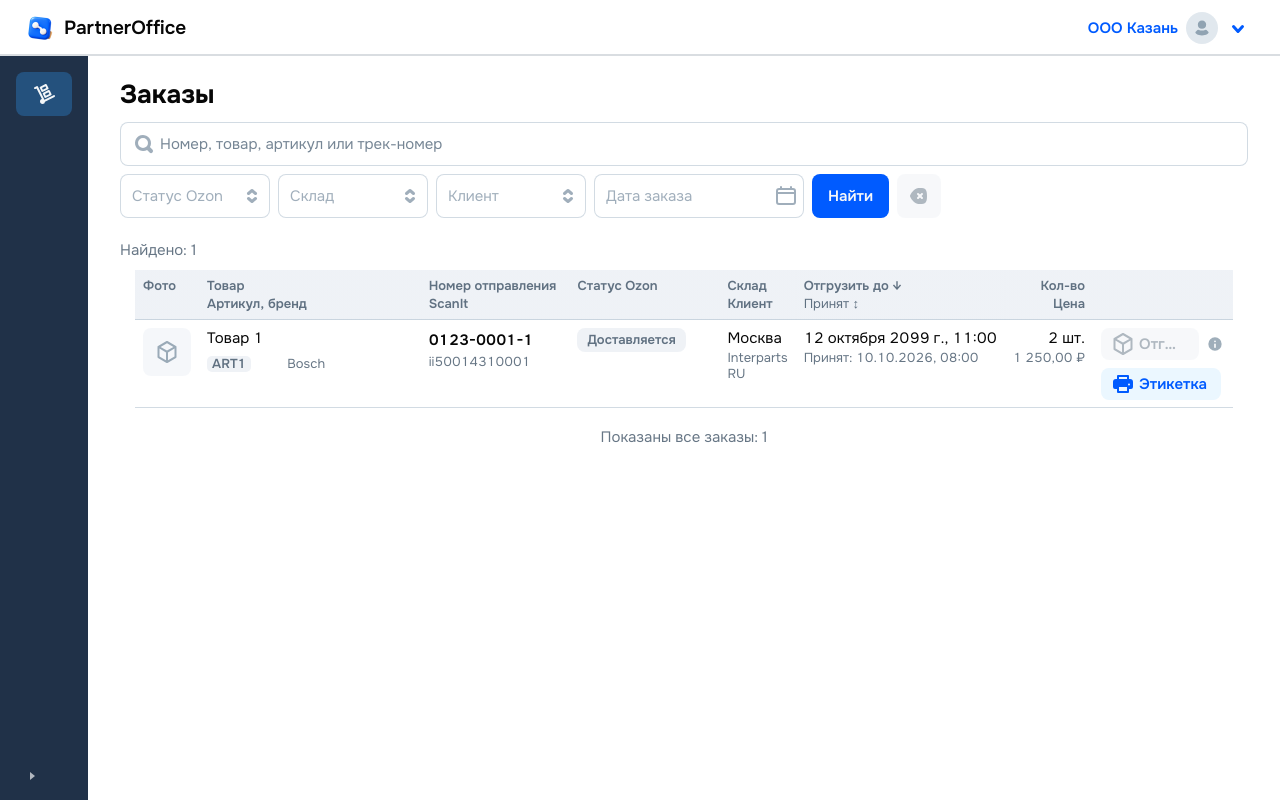
it: Список заказов › блокирует отгрузку вне статуса «Ожидает сборки» и показывает подсказку над таблицей
Expected: the button "Отгрузить" is disabled, [1101, 328, 1199, 360]
Hover over the picture named "только из статуса Ozon «Ожидает сборки»": (1215, 344) [1207, 336, 1223, 352]
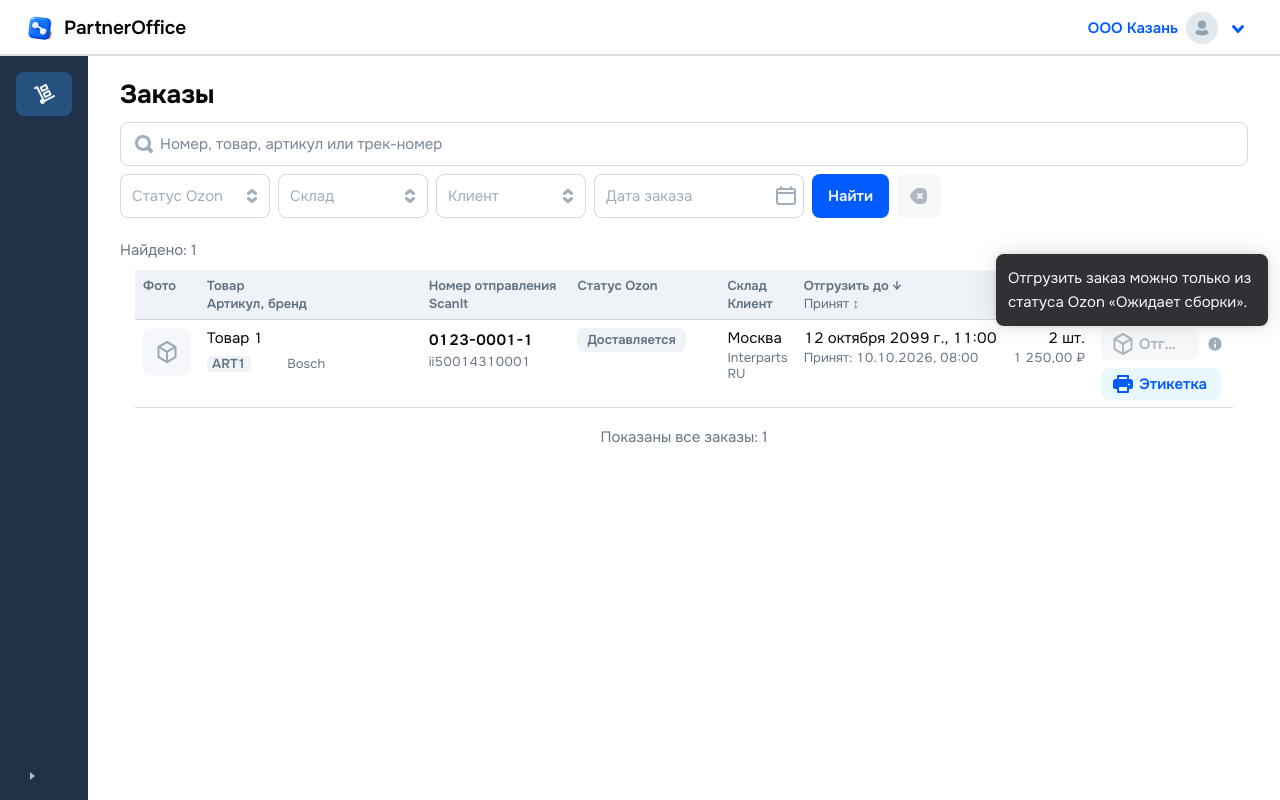
Now the tooltip reads "Отгрузить заказ можно только из статуса Ozon «Ожидает сборки».", box [1008, 268, 1251, 312]
